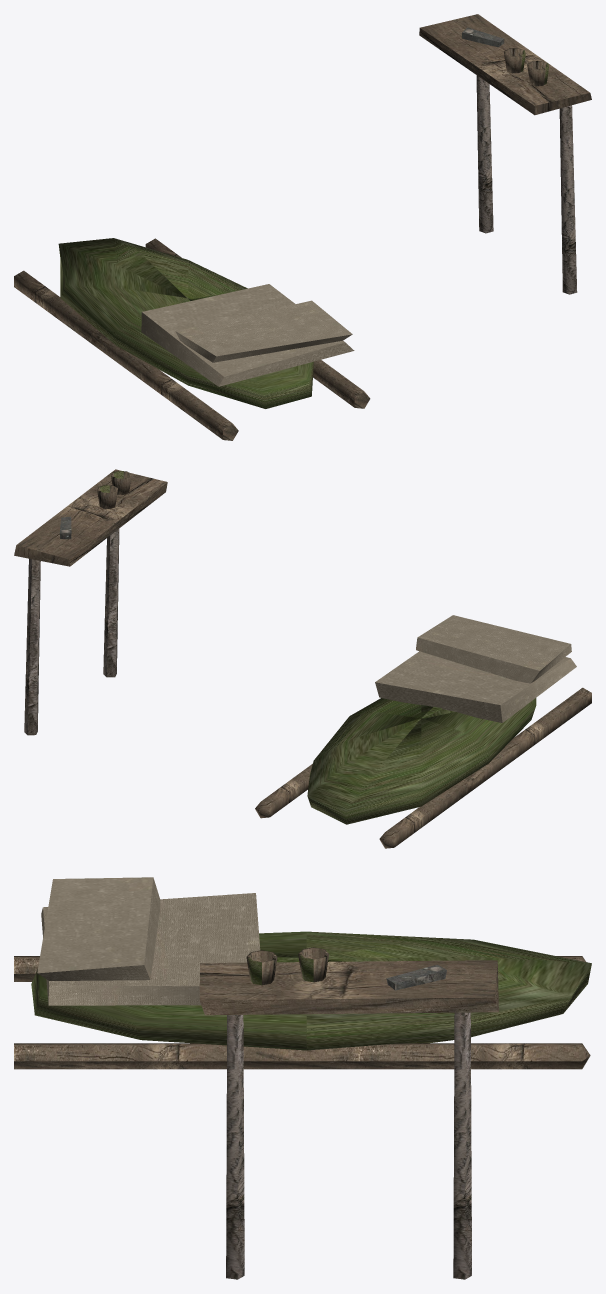
File: kit_tw_hut_thaw.glb
The picture shows the model from 3 angles, top to bottom: view 1: azimuth 30°, elevation 25°; view 2: azimuth 150°, elevation 25°; view 3: azimuth 270°, elevation 25°; orthographic projection. The views are drawn at different scales.
Visible parts, largest first — view 1: kit_tw_hut_thaw; view 2: kit_tw_hut_thaw; view 3: kit_tw_hut_thaw.
Part boxes in pixels (x1,y1,x2,y2): kit_tw_hut_thaw: (14, 14, 591, 440); kit_tw_hut_thaw: (14, 469, 591, 848); kit_tw_hut_thaw: (14, 877, 591, 1279).
Bounding box in the file's own units: 2 × 0.9757 × 1.68.
Materials: 1 (1 with a texture image).
